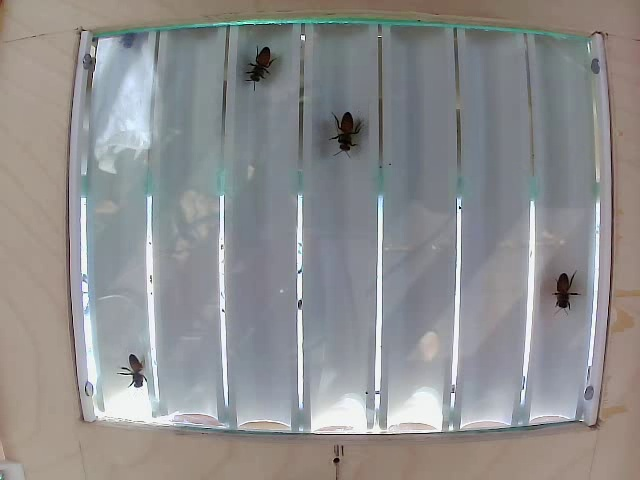bee: (314, 102, 352, 160), (236, 45, 284, 90), (550, 264, 584, 323), (112, 360, 154, 388)
